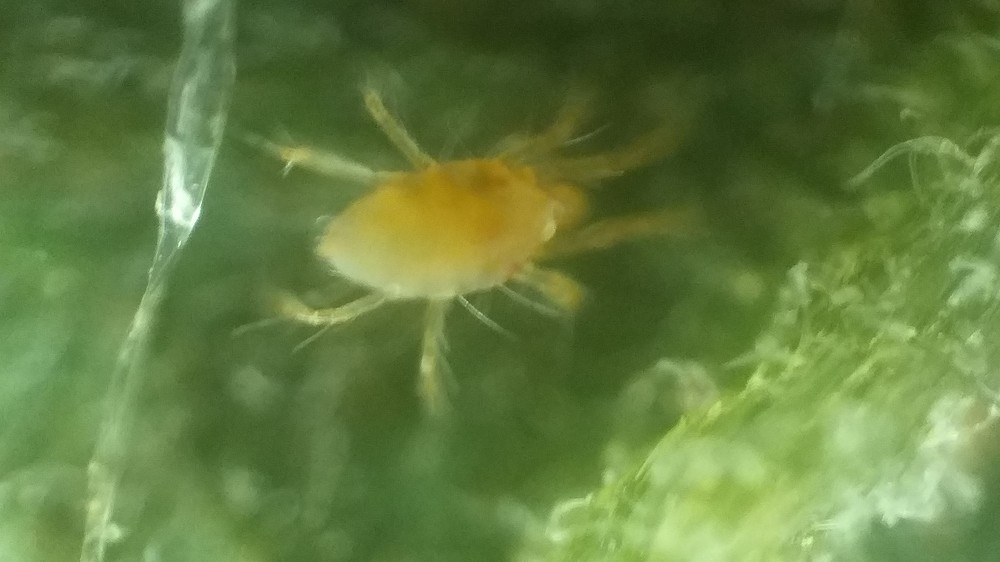Aracnido Rojo: (249, 67, 732, 411)
